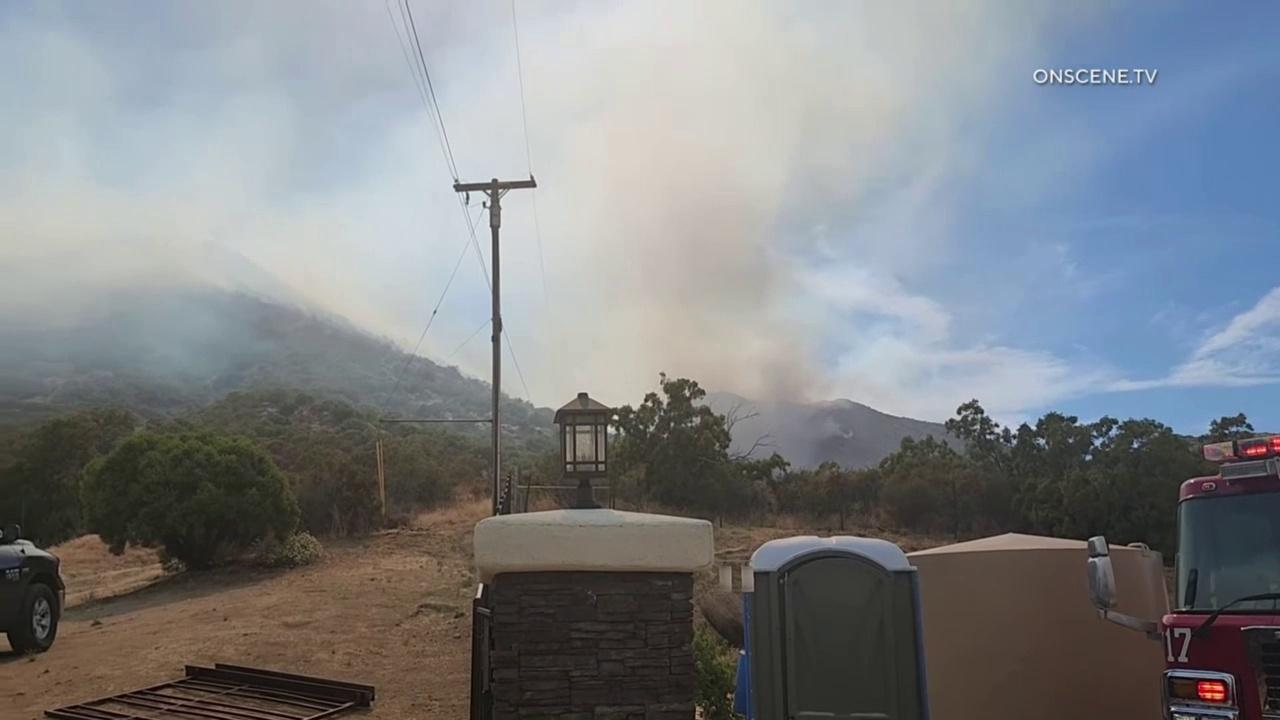smoke: (1, 0, 1063, 474)
